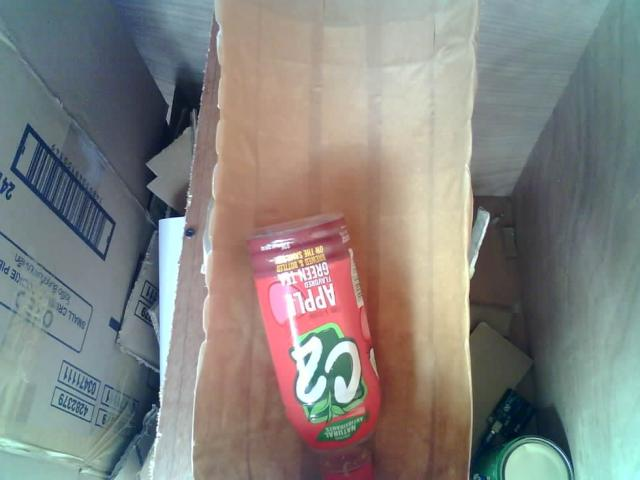small_bottle: (220, 216, 405, 480)
